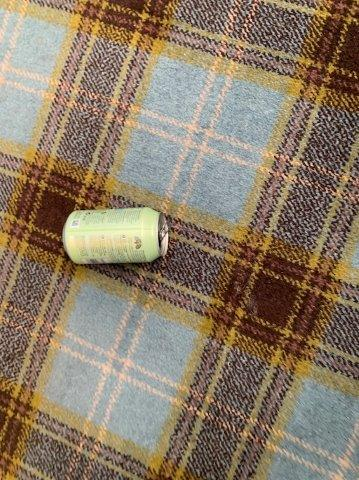kaleng: (64, 208, 168, 264)
